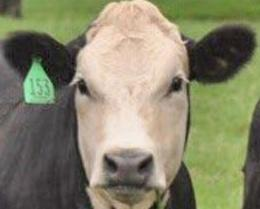muzzles: (88, 147, 167, 208)
